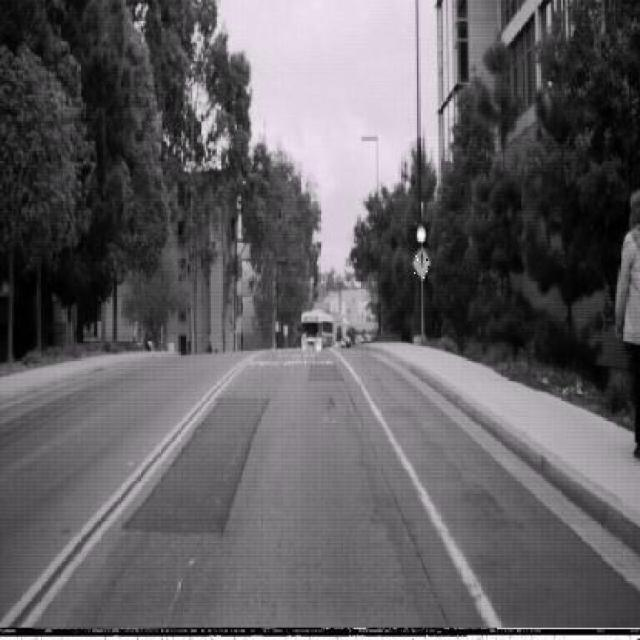pedestrianCrossing: (412, 243, 431, 280)
